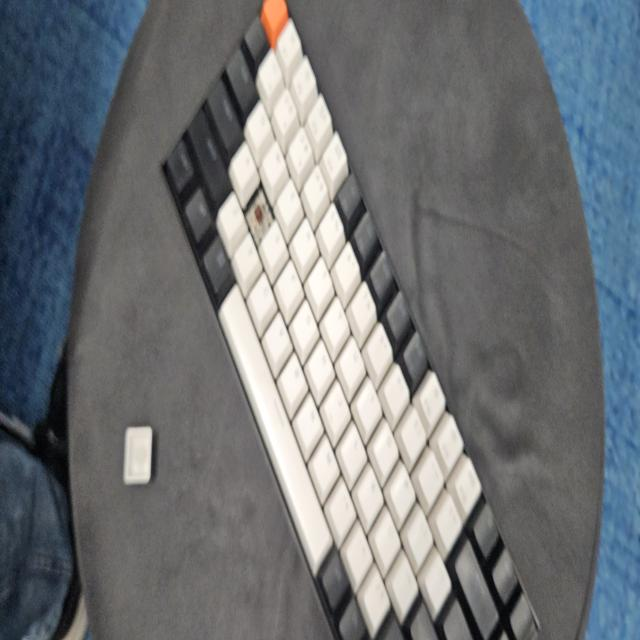C: (248, 199, 270, 241)
